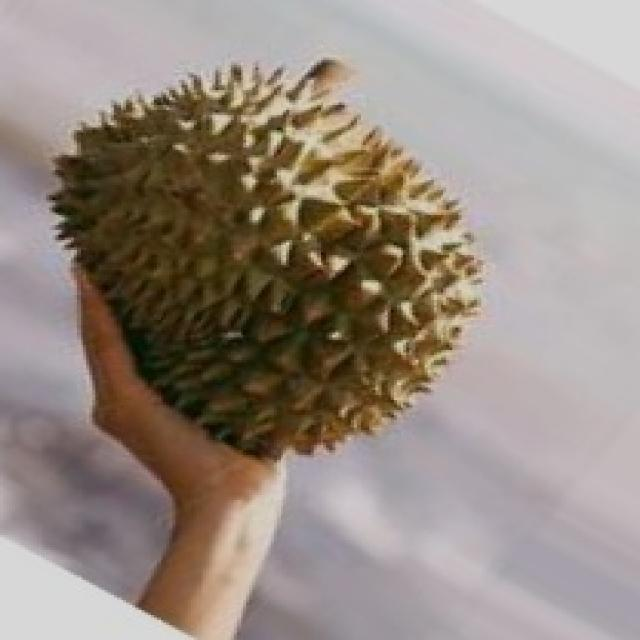fruit: (9, 15, 376, 515)
